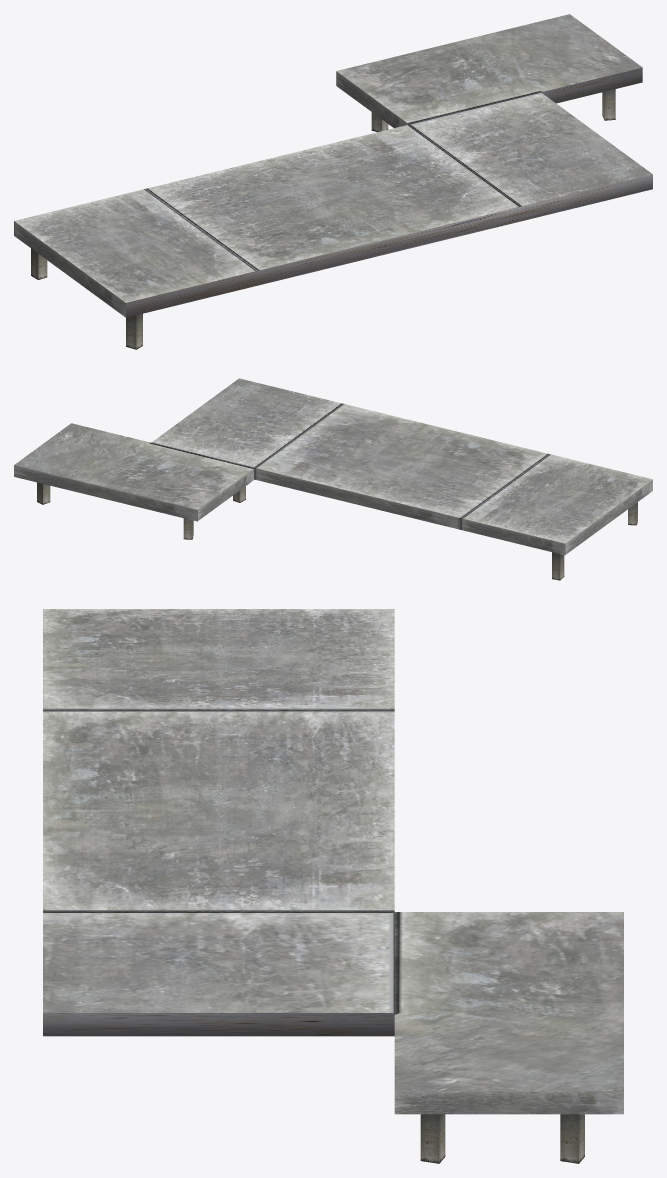
File: dcs_lands_center_interior_furniture.DAE
The picture shows the model from 3 angles, top to bottom: view 1: azimuth 30°, elevation 25°; view 2: azimuth 150°, elevation 25°; view 3: azimuth 270°, elevation 25°; orthographic projection. The views are drawn at different scales.
Parts seen in each view (by area): view 1: Box03; view 2: Box03; view 3: Box03.
Part boxes in pixels (box(x1,y1,x2,y2)): Box03: box(14, 14, 652, 349); Box03: box(14, 378, 652, 580); Box03: box(43, 609, 623, 1163).
Bounding box in the file's own units: 16.46 × 1.35 × 8.39.
